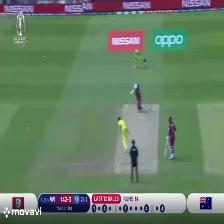ball: (24, 124, 33, 134)
batsman: (128, 81, 148, 114)
